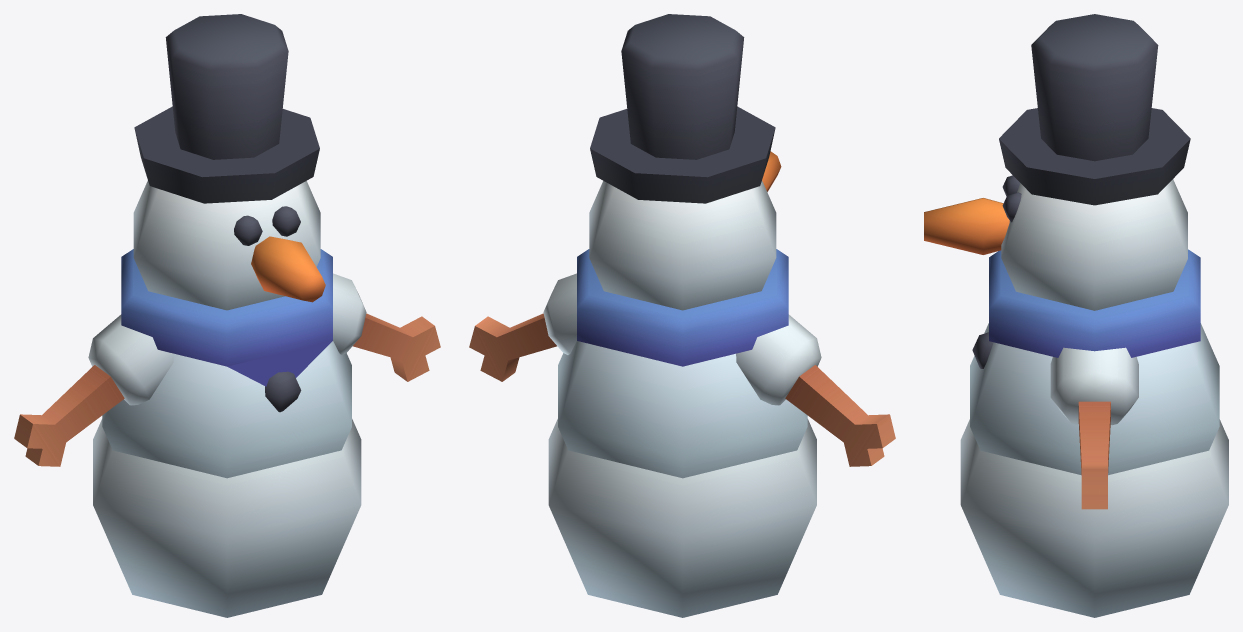
Rendered from snowman-hat.glb.
The picture shows the model from 3 angles, left to right: view 1: azimuth 30°, elevation 25°; view 2: azimuth 150°, elevation 25°; view 3: azimuth 270°, elevation 25°; orthographic projection.
Visible parts, largest first — view 1: snowman-hat; view 2: snowman-hat; view 3: snowman-hat.
Boxes of the visible parts, box(x1,y1,x2,y2) form: snowman-hat: box(14, 14, 440, 617); snowman-hat: box(469, 14, 895, 617); snowman-hat: box(924, 14, 1228, 617).
Size of the model in its own units: 1.08 by 1.36 by 0.6882.
1 material, 1 textured.
